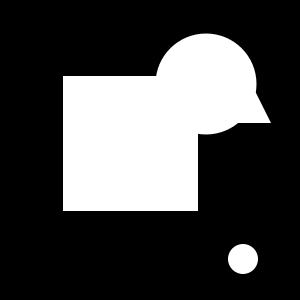circle: (63, 76, 198, 211)
rectangle: (156, 34, 256, 134), (228, 244, 258, 274)
triangle: (222, 74, 271, 123), (123, 194, 130, 201)
